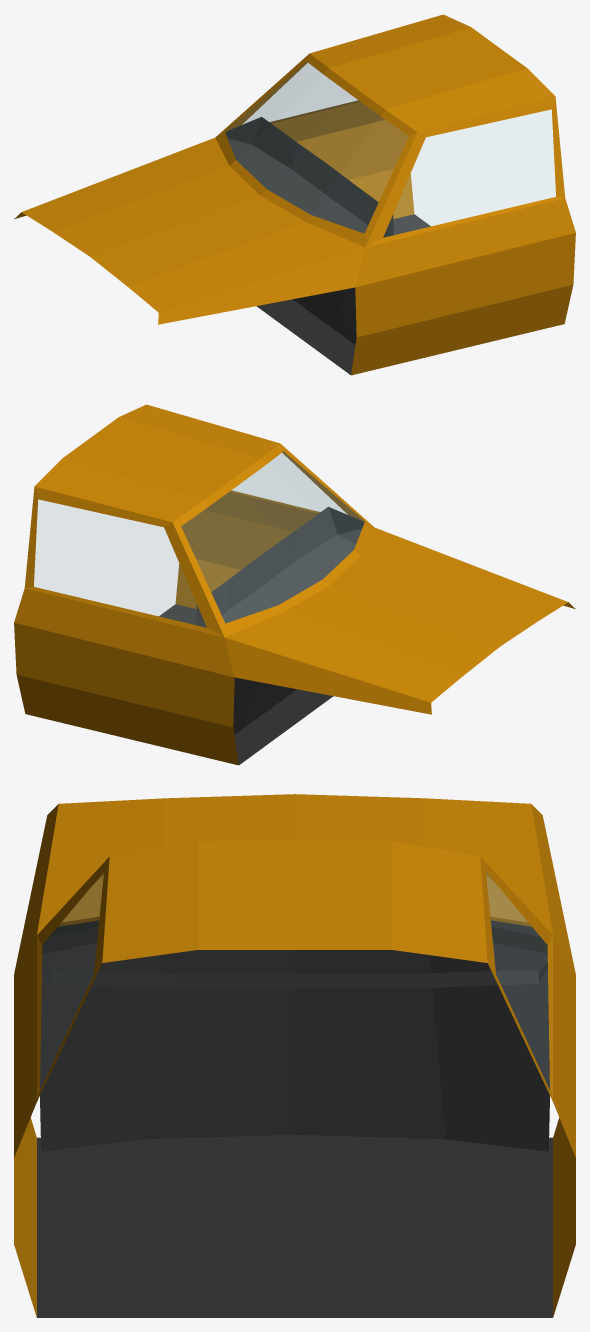
The model's file is cockpit.dae.
The picture shows the model from 3 angles, top to bottom: view 1: azimuth 30°, elevation 25°; view 2: azimuth 150°, elevation 25°; view 3: azimuth 270°, elevation 25°; orthographic projection. The views are drawn at different scales.
Visible parts, largest first — view 1: cockpit; view 2: cockpit; view 3: cockpit.
Boxes of the visible parts, x1,y1,x2,y2 form: cockpit: (14, 14, 575, 375); cockpit: (14, 404, 575, 765); cockpit: (14, 794, 575, 1317).
Size of the model in its own units: 3.82 by 2.62 by 1.93.
